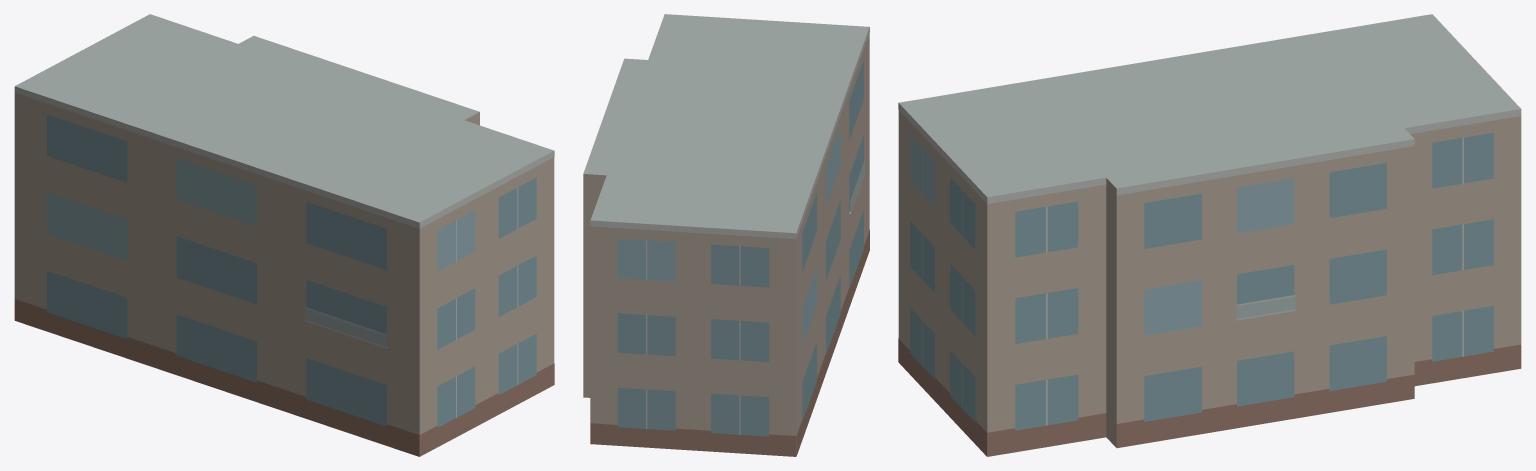
The model's file is survey-upis-32697632.glb.
3 views of the same model, side by side, from view 1: azimuth 30°, elevation 25°; view 2: azimuth 150°, elevation 25°; view 3: azimuth 270°, elevation 25° (orthographic). The views are drawn at different scales.
Parts seen in each view (by area): view 1: survey-upis-32697632.tmp; view 2: survey-upis-32697632.tmp; view 3: survey-upis-32697632.tmp.
Boxes of the visible parts, x1,y1,x2,y2 form: survey-upis-32697632.tmp: [14, 14, 554, 456]; survey-upis-32697632.tmp: [583, 14, 869, 456]; survey-upis-32697632.tmp: [898, 14, 1521, 456].
Size of the model in its own units: 13.86 by 9.15 by 19.9.
